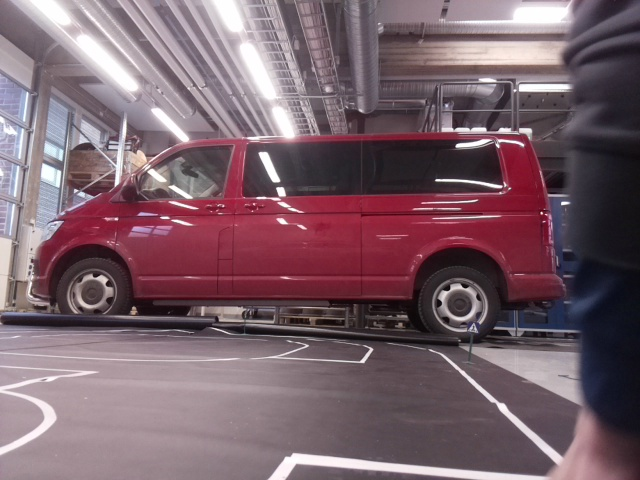Crosswalk: (468, 319, 479, 336)
